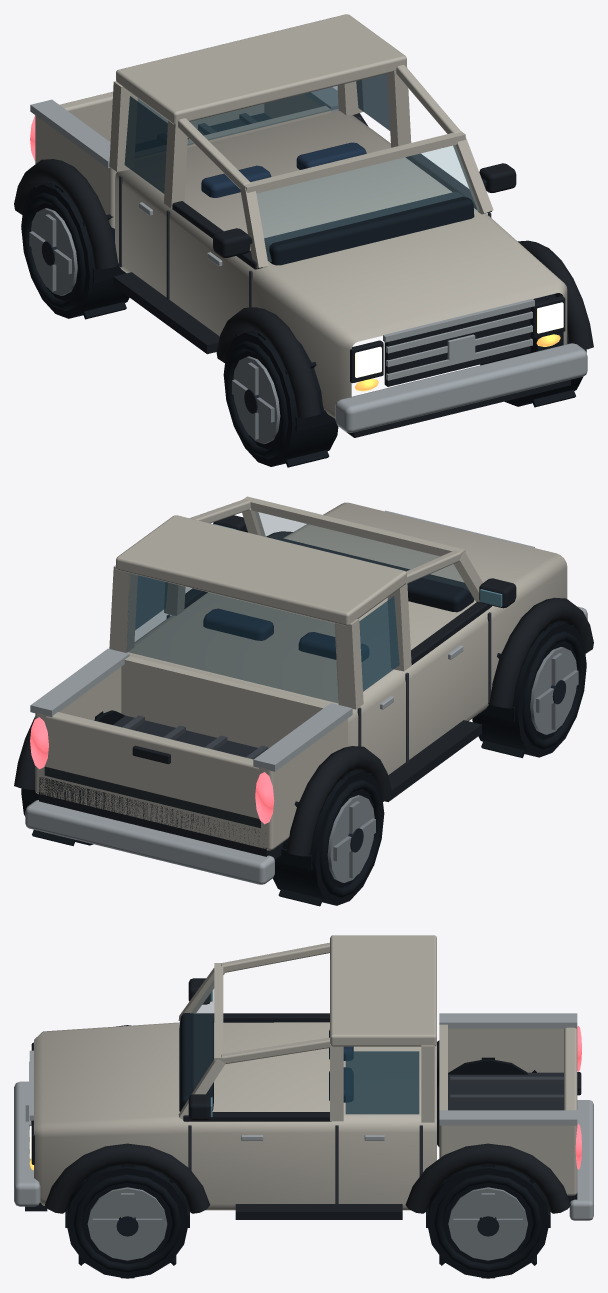
File: white-empanade.glb
3 renders of one model, top to bottom at view 1: azimuth 30°, elevation 25°; view 2: azimuth 150°, elevation 25°; view 3: azimuth 270°, elevation 25°, orthographic. The views are drawn at different scales.
Visible parts, largest first — view 1: hull_merged, bed-rail_merged, tire_merged (×3), low-windscreen, bed-under_merged, over-fender_merged, dashboard, rim_merged (×2), side-glass_merged, cab-rear-glass, seat-back_merged, mirror-shell (×2) (+2 smaller); view 2: hull_merged, cab-rear-glass, tire_merged (×3), bed-rail_merged, over-fender_merged, bed-under_merged, rim_merged (×2), low-windscreen, side-glass_merged, bed-floor, seat-back_merged, dashboard (+4 smaller); view 3: hull_merged, tire_merged (×3), bed-rail_merged, over-fender_merged, rim_merged (×2), bed-under_merged, side-glass_merged, bed-floor, dashboard, bed-ridge_merged, low-windscreen, door-line_merged (+3 smaller).
Part boxes in pixels (x1=…): hull_merged: x1=35, y1=14, x2=567, y2=418; bed-rail_merged: x1=30, y1=87, x2=587, y2=432; tire_merged (×3): x1=21, y1=182, x2=586, y2=467; low-windscreen: x1=257, y1=145, x2=479, y2=261; bed-under_merged: x1=113, y1=153, x2=570, y2=437; over-fender_merged: x1=14, y1=113, x2=593, y2=417; dashboard: x1=264, y1=192, x2=474, y2=265; rim_merged (×2): x1=29, y1=208, x2=280, y2=444; side-glass_merged: x1=124, y1=73, x2=390, y2=193; cab-rear-glass: x1=137, y1=86, x2=338, y2=145; seat-back_merged: x1=201, y1=142, x2=366, y2=197; mirror-shell (×2): x1=213, y1=163, x2=516, y2=257; hull_merged: x1=35, y1=496, x2=567, y2=850; cab-rear-glass: x1=126, y1=573, x2=338, y2=703; tire_merged (×3): x1=21, y1=621, x2=586, y2=906; bed-rail_merged: x1=25, y1=510, x2=587, y2=884; over-fender_merged: x1=14, y1=531, x2=593, y2=856; bed-under_merged: x1=39, y1=588, x2=491, y2=859; rim_merged (×2): x1=327, y1=647, x2=578, y2=882; low-windscreen: x1=255, y1=511, x2=474, y2=599; side-glass_merged: x1=135, y1=575, x2=399, y2=691; bed-floor: x1=44, y1=715, x2=260, y2=828; seat-back_merged: x1=203, y1=608, x2=368, y2=661; dashboard: x1=273, y1=537, x2=474, y2=612; hull_merged: x1=34, y1=935, x2=577, y2=1210; tire_merged (×3): x1=65, y1=1057, x2=550, y2=1278; bed-rail_merged: x1=14, y1=1013, x2=593, y2=1220; over-fender_merged: x1=45, y1=1025, x2=570, y2=1213; rim_merged (×2): x1=87, y1=1187, x2=527, y2=1260; bed-under_merged: x1=25, y1=1013, x2=581, y2=1219; side-glass_merged: x1=345, y1=1051, x2=419, y2=1114; bed-floor: x1=448, y1=1072, x2=563, y2=1110; dashboard: x1=179, y1=1013, x2=213, y2=1111; bed-ridge_merged: x1=450, y1=1076, x2=563, y2=1101; low-windscreen: x1=191, y1=980, x2=213, y2=1089; door-line_merged: x1=188, y1=1125, x2=422, y2=1204.
Size of the model in its own units: 2.86 by 2.29 by 5.21.
